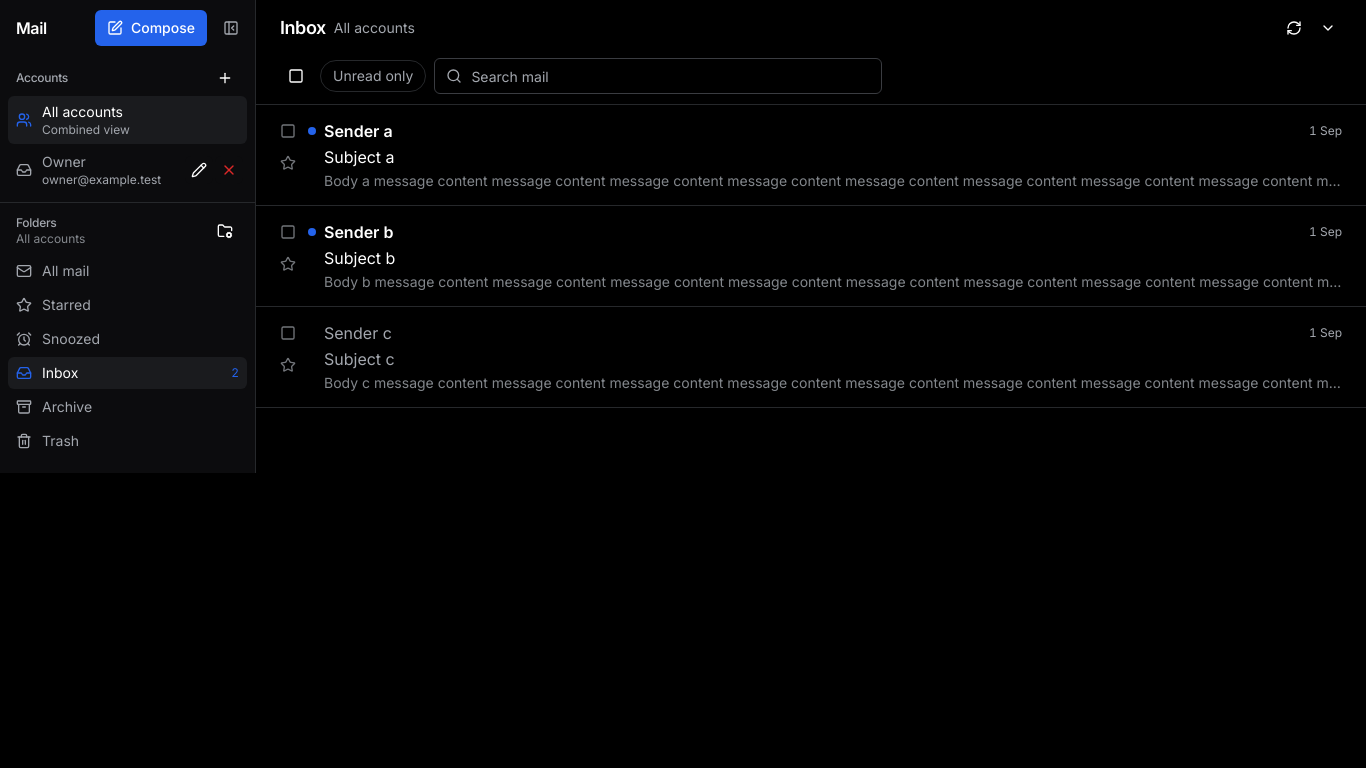
mail actions look done at once while sync state stays visible › moves a message out of the list at once, closes it in the reader, and sends one request for repeated clicks
This screenshot has width=1366, height=768.
Click the text "Subject c": point(359, 359) [324,349,395,369]
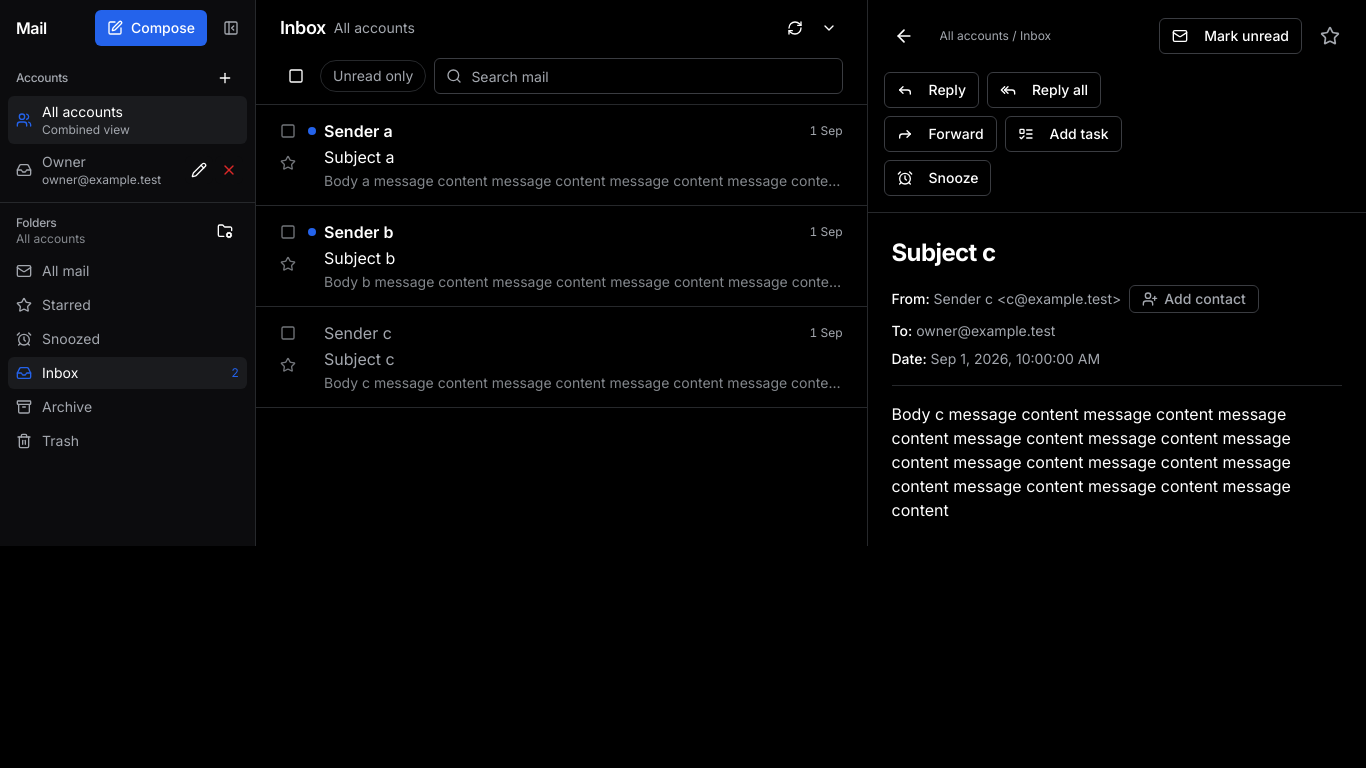
Right-click the list item that starts with "Sender c": point(561, 358) [256,307,866,408]
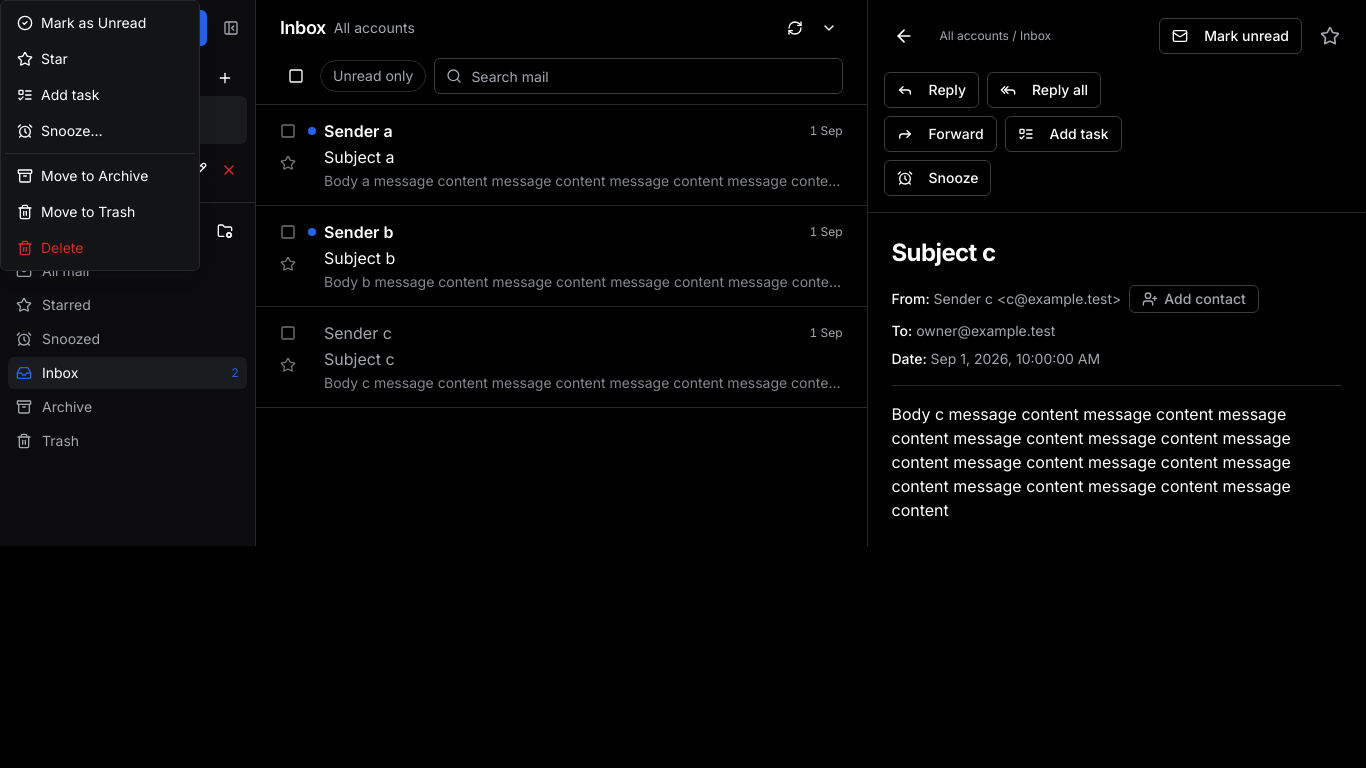
Click the button "Move to Archive": point(100, 176) [5,158,195,194]
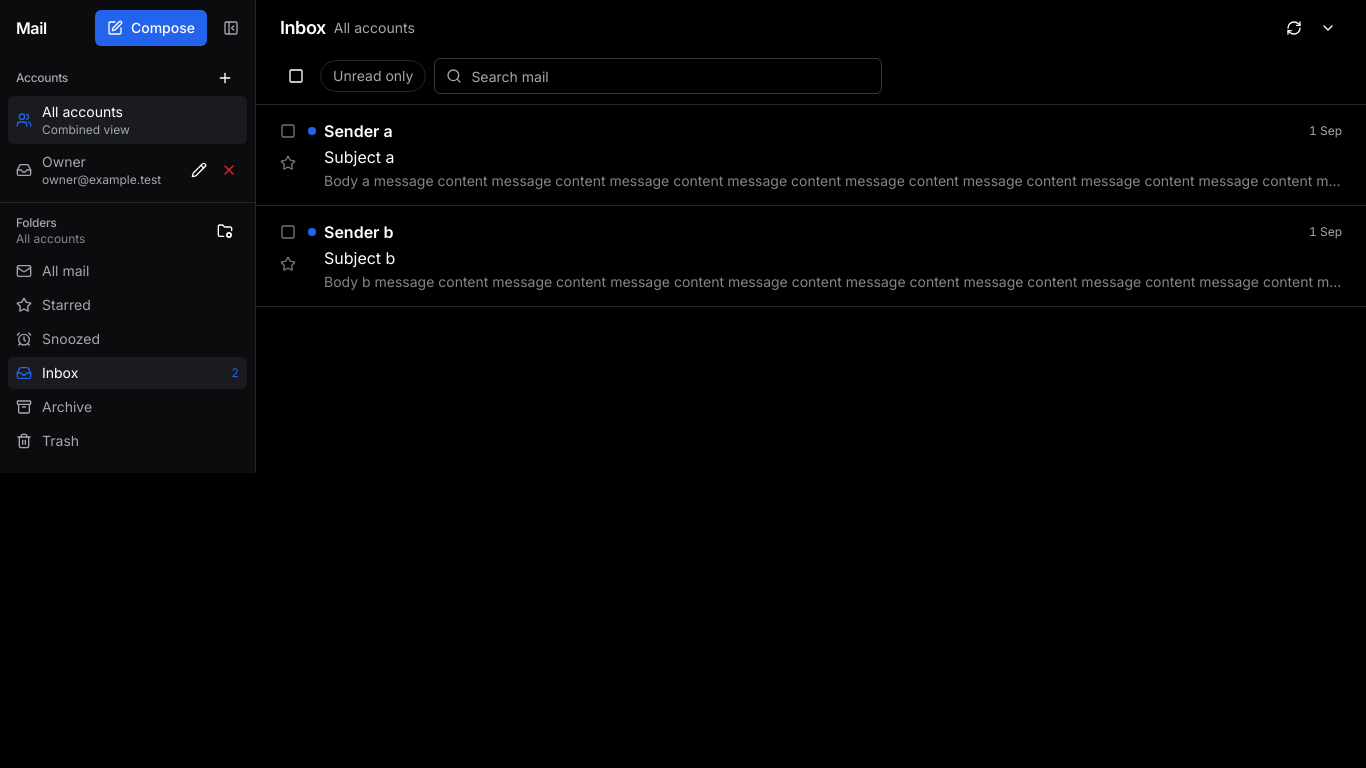
Check: the button "Subject c" is gone
// The same move again while the first is in flight is not a second request.
Right-click the list item that starts with "Sender a": point(811, 156) [256,105,1365,206]
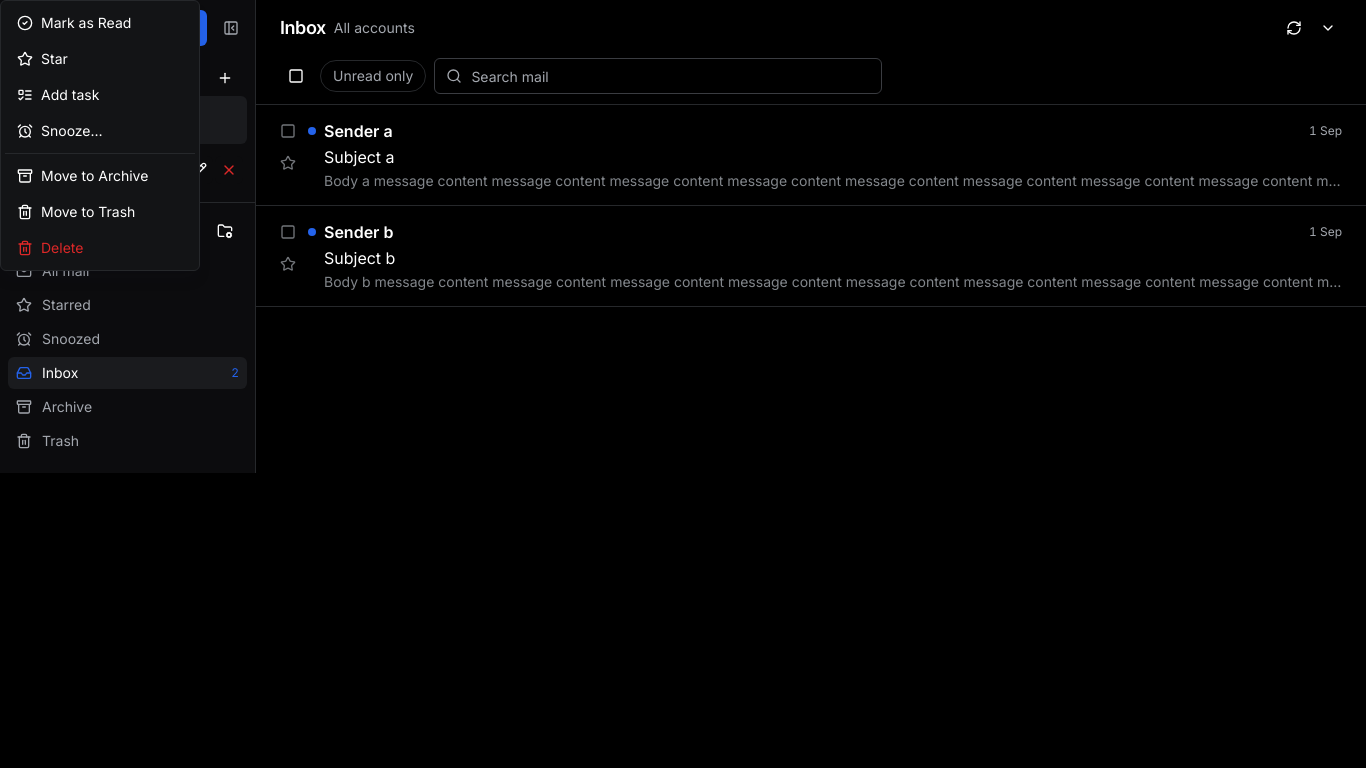
Check: the button "Move to Archive" is shown, box [5,158,195,194]
Click the element that starts with "Mail": point(683, 384) [0,0,1365,767]
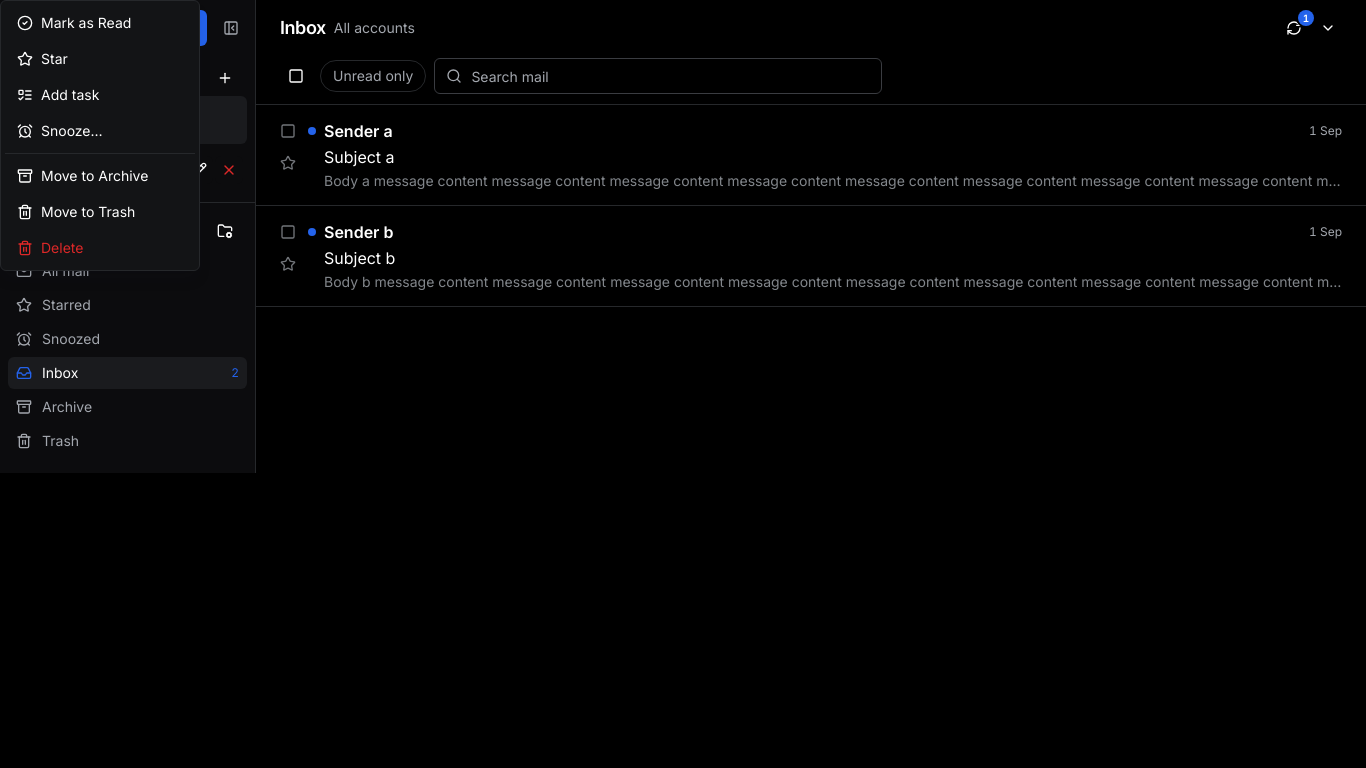
Check: the button "Subject c" is not shown
Check: the button named "Sync mail — 1 change waiting — open sync details" is shown, box [1274,8,1314,48]
